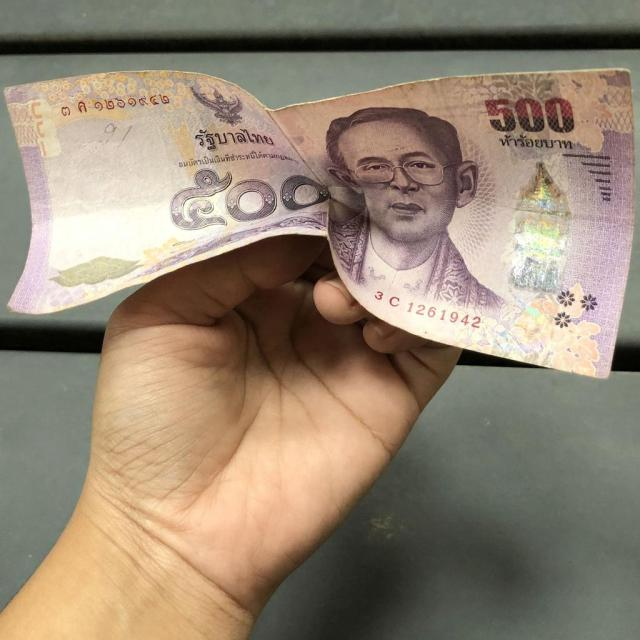THAI500: (5, 68, 634, 379)
